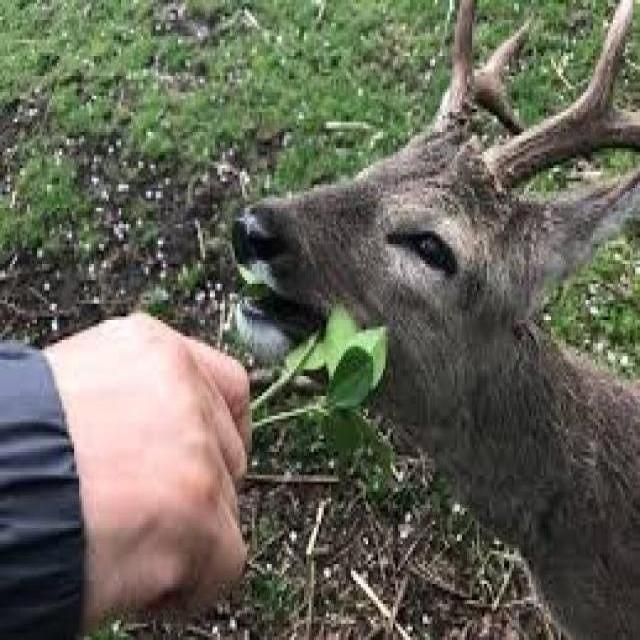deer: (220, 0, 640, 451)
